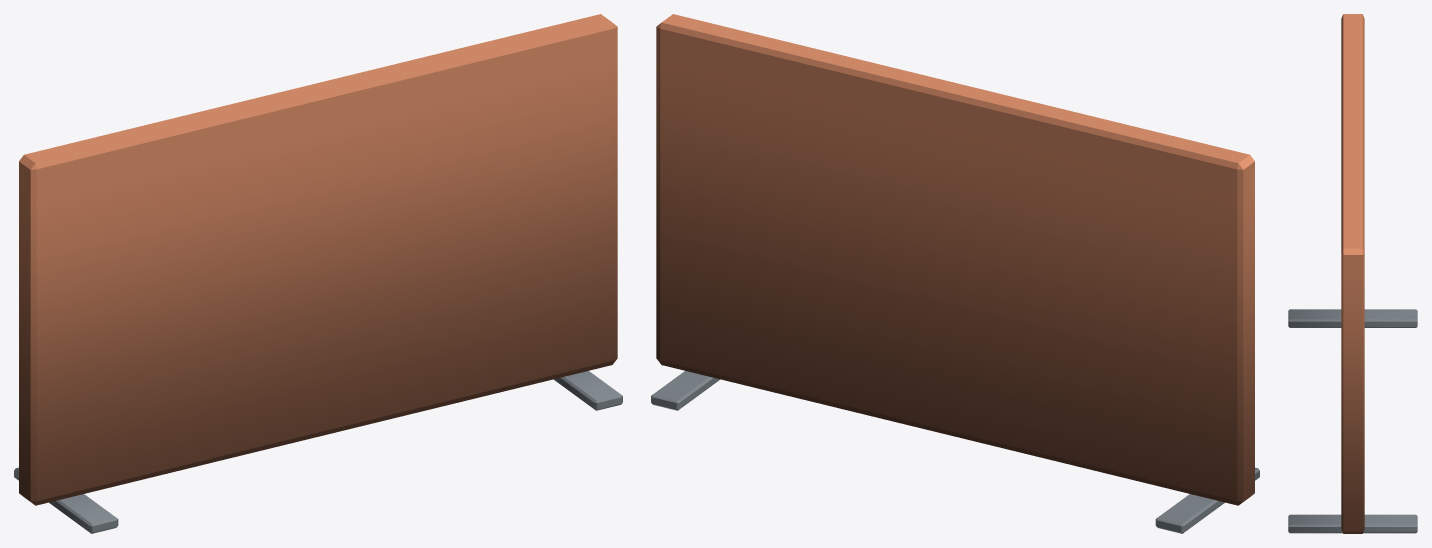
Rendered from Wall_01.fbx.
3 renders of one model, left to right at view 1: azimuth 30°, elevation 25°; view 2: azimuth 150°, elevation 25°; view 3: azimuth 270°, elevation 25°, orthographic. The views are drawn at different scales.
Visible parts, largest first — view 1: Box001; view 2: Box001; view 3: Box001.
Part boxes in pixels (x1,y1,x2,y2): Box001: [14, 14, 622, 533]; Box001: [651, 14, 1259, 533]; Box001: [1288, 14, 1417, 533].
Size of the model in its own units: 324 by 186 by 74.25.
